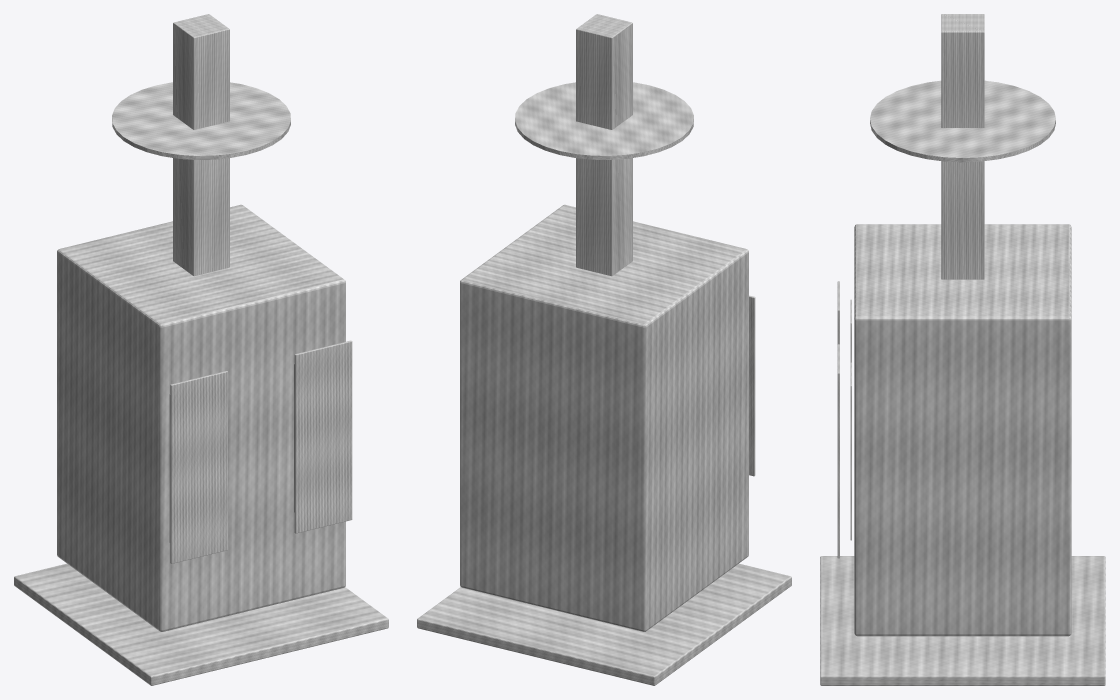
The model's file is radar-tower_variant_a.glb.
3 renders of one model, left to right at view 1: azimuth 30°, elevation 25°; view 2: azimuth 150°, elevation 25°; view 3: azimuth 270°, elevation 25°, orthographic. The views are drawn at different scales.
Visible parts, largest first — view 1: Main structural housing, Foundation, Tower mast, Protective frame.001, Protective frame, Antenna dish.001; view 2: Main structural housing, Foundation, Tower mast, Antenna dish.001, Protective frame; view 3: Main structural housing, Foundation, Antenna dish.001, Tower mast, Protective frame.001.
Part boxes in pixels (bbox=[...]): Main structural housing: bbox=[57, 204, 345, 631]; Foundation: bbox=[14, 563, 388, 685]; Tower mast: bbox=[173, 14, 229, 276]; Protective frame.001: bbox=[294, 340, 352, 533]; Protective frame: bbox=[170, 371, 227, 563]; Antenna dish.001: bbox=[112, 82, 290, 159]; Main structural housing: bbox=[460, 204, 748, 631]; Foundation: bbox=[417, 563, 791, 685]; Tower mast: bbox=[576, 14, 632, 276]; Antenna dish.001: bbox=[515, 82, 693, 159]; Protective frame: bbox=[749, 295, 755, 476]; Main structural housing: bbox=[854, 224, 1071, 636]; Foundation: bbox=[820, 556, 1105, 685]; Antenna dish.001: bbox=[870, 80, 1055, 162]; Tower mast: bbox=[941, 14, 984, 279]; Protective frame.001: bbox=[837, 344, 839, 558].
Size of what is drawn, in the model's own units: 11.04 by 25.74 by 11.04.
Materials: 5 (5 with a texture image).
